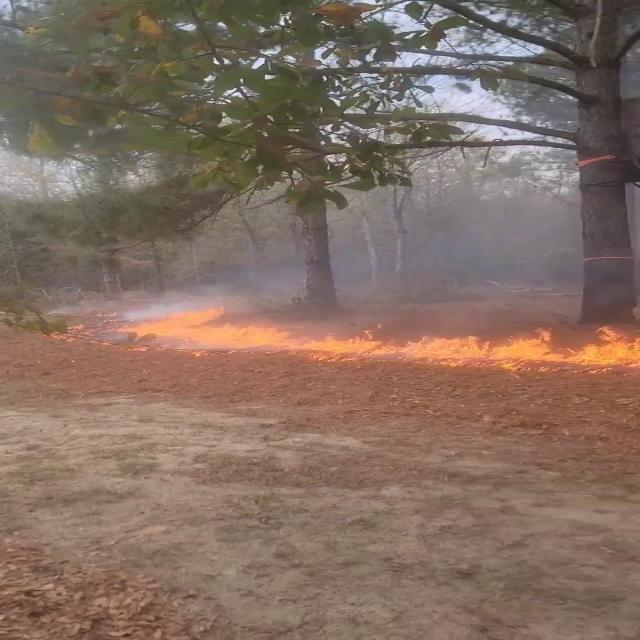Fire: (120, 310, 638, 364)
Smoke: (153, 180, 640, 313)
